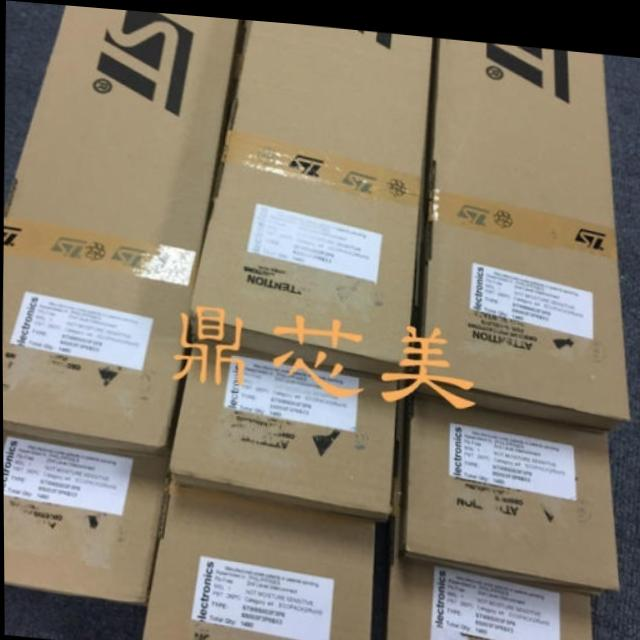box: (2, 4, 242, 452), (189, 16, 433, 372), (415, 30, 630, 417), (404, 385, 618, 580), (167, 337, 396, 508), (140, 475, 376, 640), (3, 431, 169, 604), (385, 547, 591, 640)
